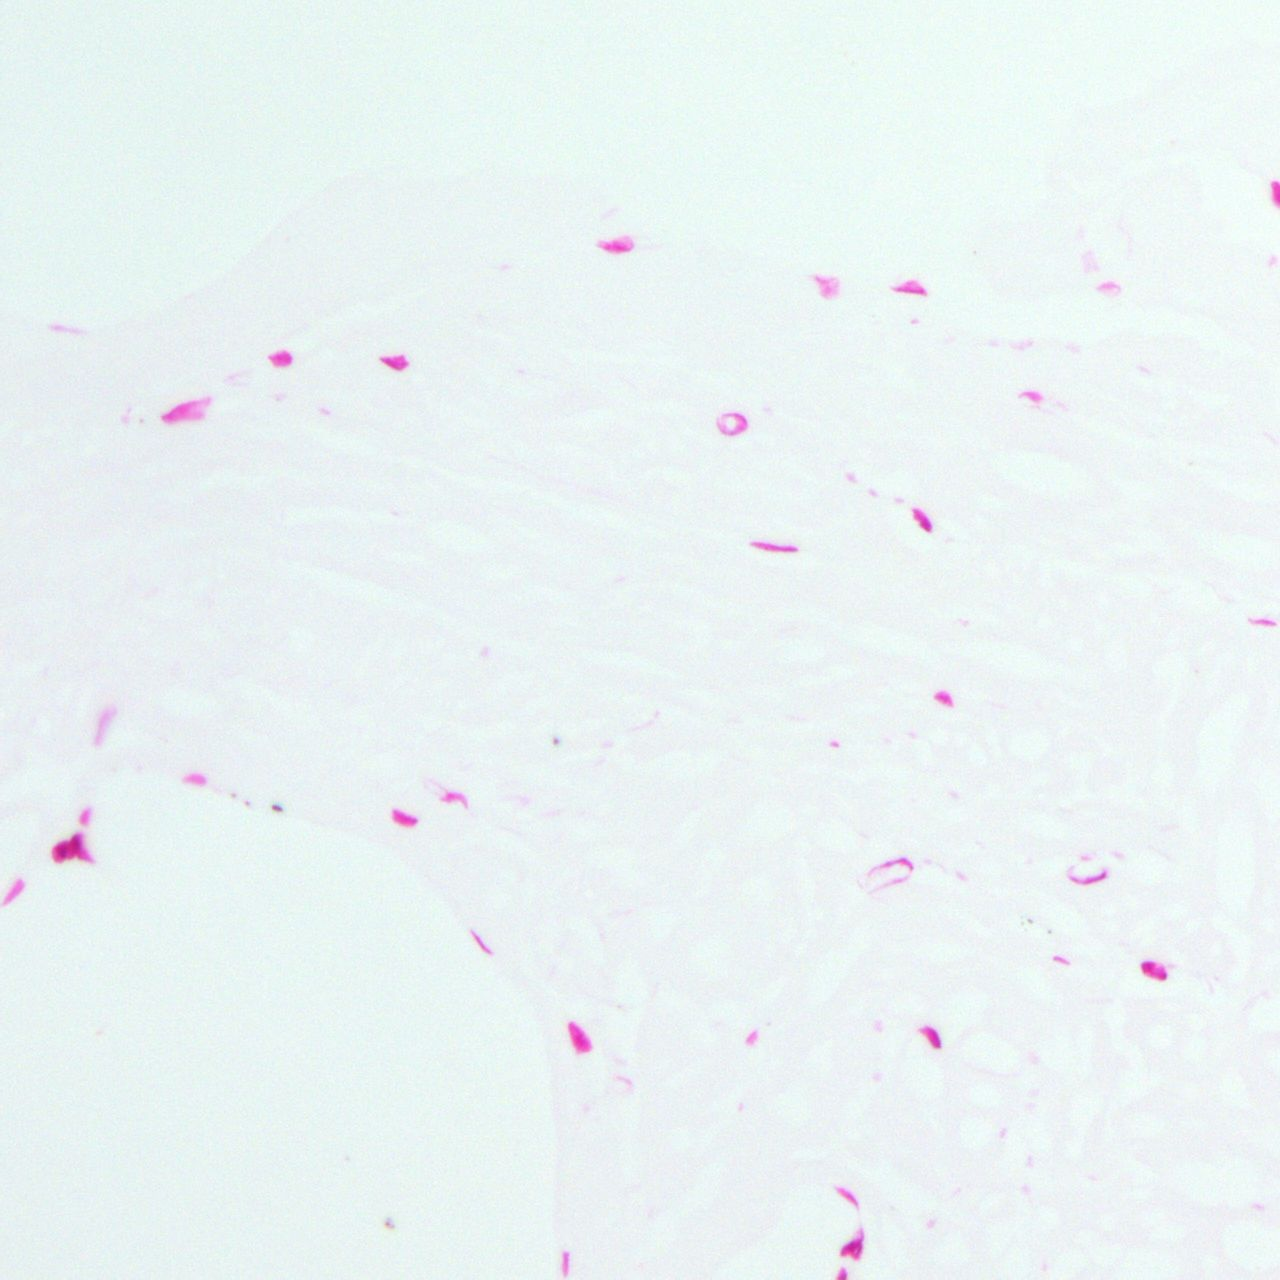dust: (552, 737, 559, 745)
nucleus-FG: (47, 830, 94, 874), (837, 1223, 869, 1260), (908, 504, 935, 537), (896, 275, 930, 297), (922, 1024, 942, 1050), (1141, 960, 1164, 980)
